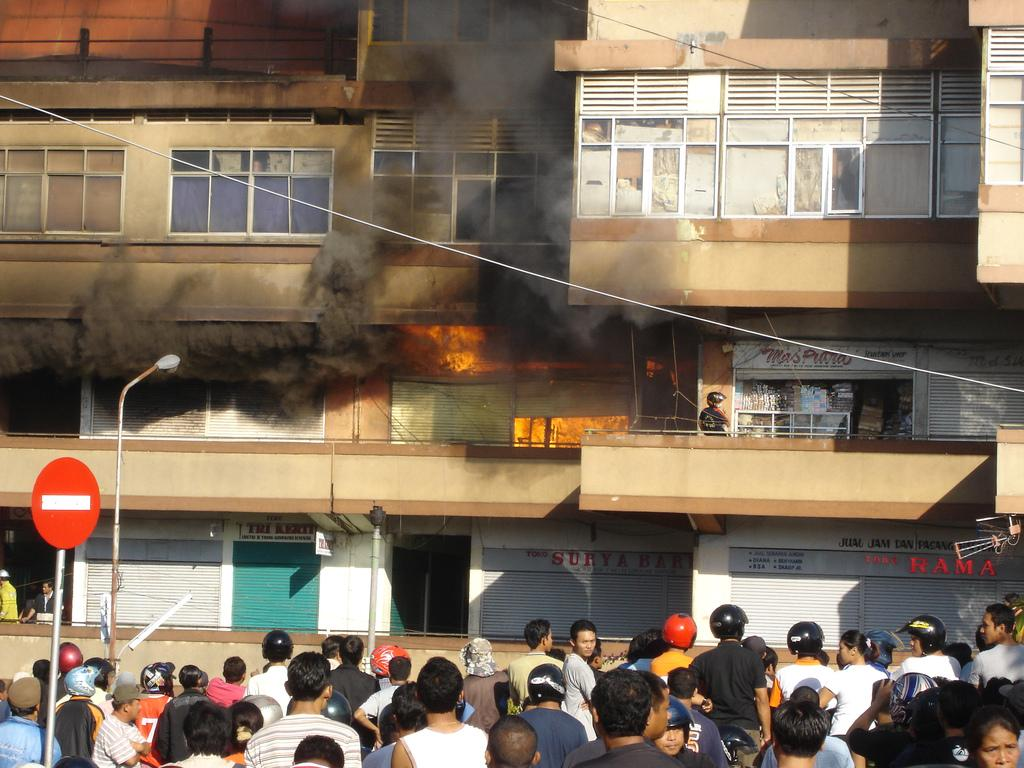fire: (404, 318, 484, 374), (516, 414, 594, 454)
smoke: (194, 324, 374, 392), (2, 320, 172, 392)
